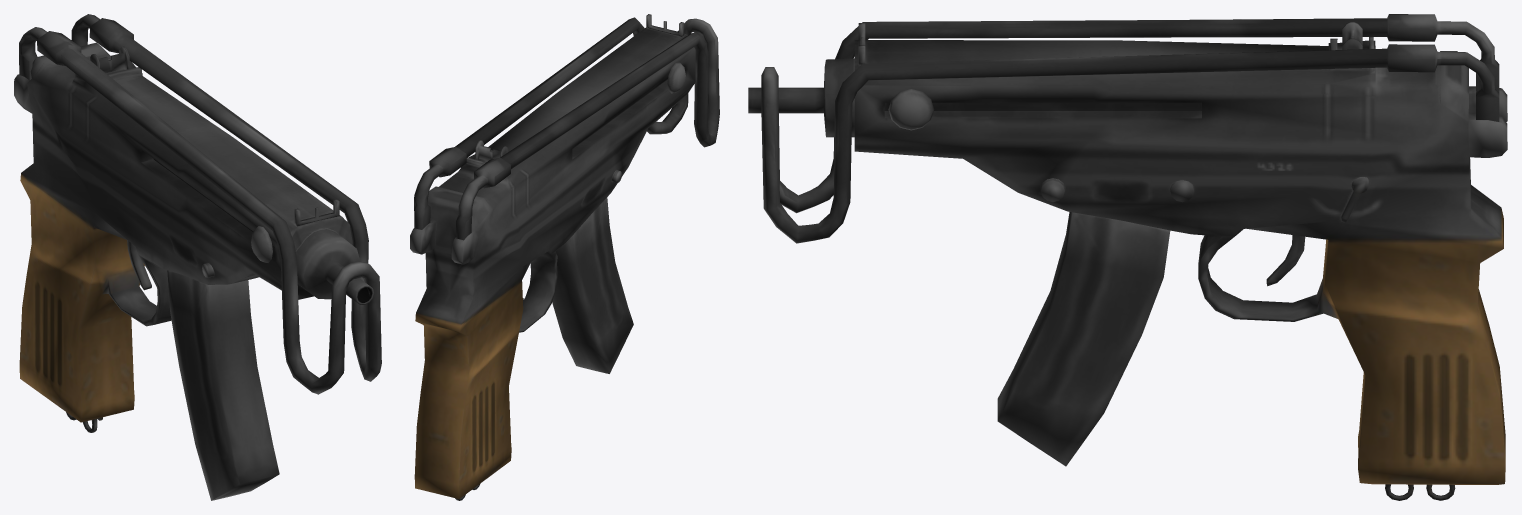
Rendered from Scorpion.fbx.
3 renders of one model, left to right at view 1: azimuth 30°, elevation 25°; view 2: azimuth 150°, elevation 25°; view 3: azimuth 270°, elevation 25°, orthographic. The views are drawn at different scales.
Visible parts, largest first — view 1: Scorpion, ScorpionTail, ScorpionMagazine, ScorpionSlide, ScorpionTrigger; view 2: Scorpion, ScorpionTail, ScorpionMagazine, ScorpionSlide; view 3: Scorpion, ScorpionTail, ScorpionMagazine, ScorpionSlide.
Boxes of the visible parts, left/top/right/bottom form: Scorpion: left=14, top=42, right=374, bottom=432; ScorpionTail: left=19, top=14, right=381, bottom=394; ScorpionMagazine: left=167, top=270, right=279, bottom=500; ScorpionSlide: left=251, top=226, right=272, bottom=262; ScorpionTrigger: left=127, top=240, right=151, bottom=290; Scorpion: left=410, top=14, right=705, bottom=500; ScorpionTail: left=414, top=17, right=719, bottom=240; ScorpionMagazine: left=552, top=197, right=633, bottom=373; ScorpionSlide: left=667, top=62, right=685, bottom=93; Scorpion: left=748, top=21, right=1507, bottom=500; ScorpionTail: left=761, top=14, right=1499, bottom=243; ScorpionMagazine: left=997, top=212, right=1170, bottom=466; ScorpionSlide: left=888, top=89, right=934, bottom=130.
Bounding box in the file's own units: 4.05 × 18.15 × 26.52.
